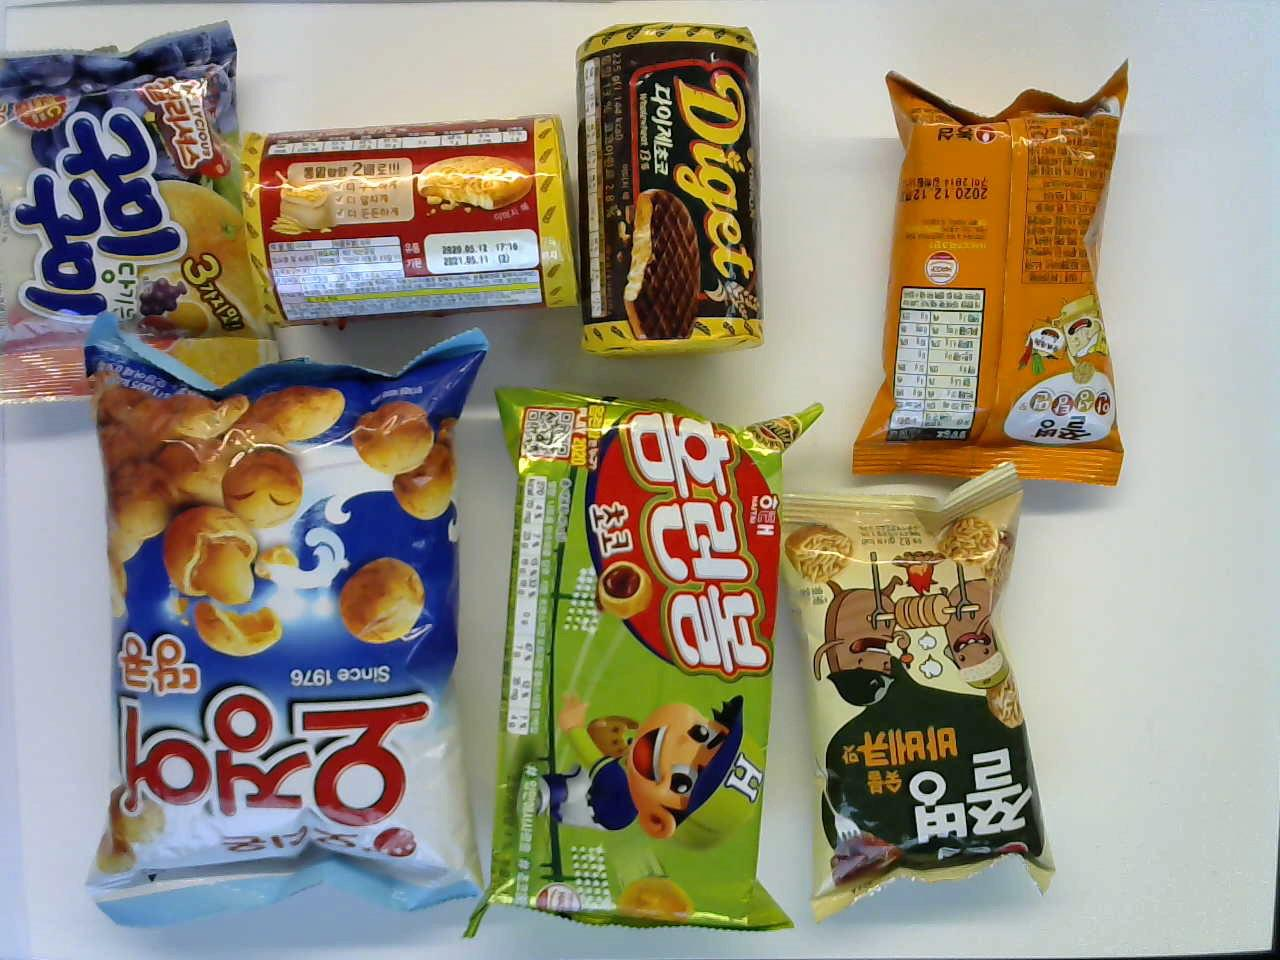diget_choco: (570, 16, 769, 363)
diget_ori: (250, 115, 577, 330)
gumi_gumi: (0, 22, 244, 404)
homerunball: (491, 381, 802, 941)
jjolbyung_noodle: (854, 56, 1129, 482)
jjolbyung_ori: (804, 462, 1058, 921)
squid_peanut: (88, 336, 486, 904)
